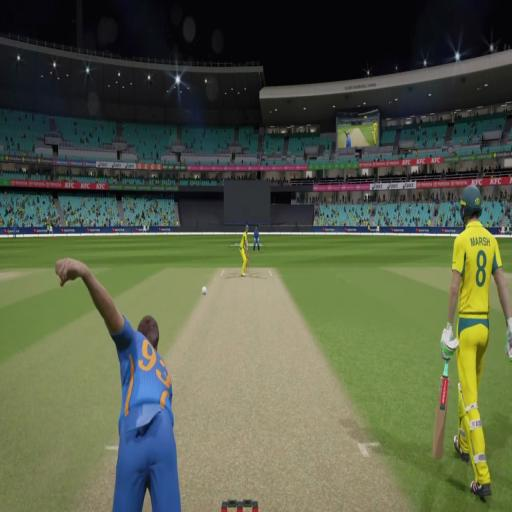ball: (200, 284, 208, 297)
